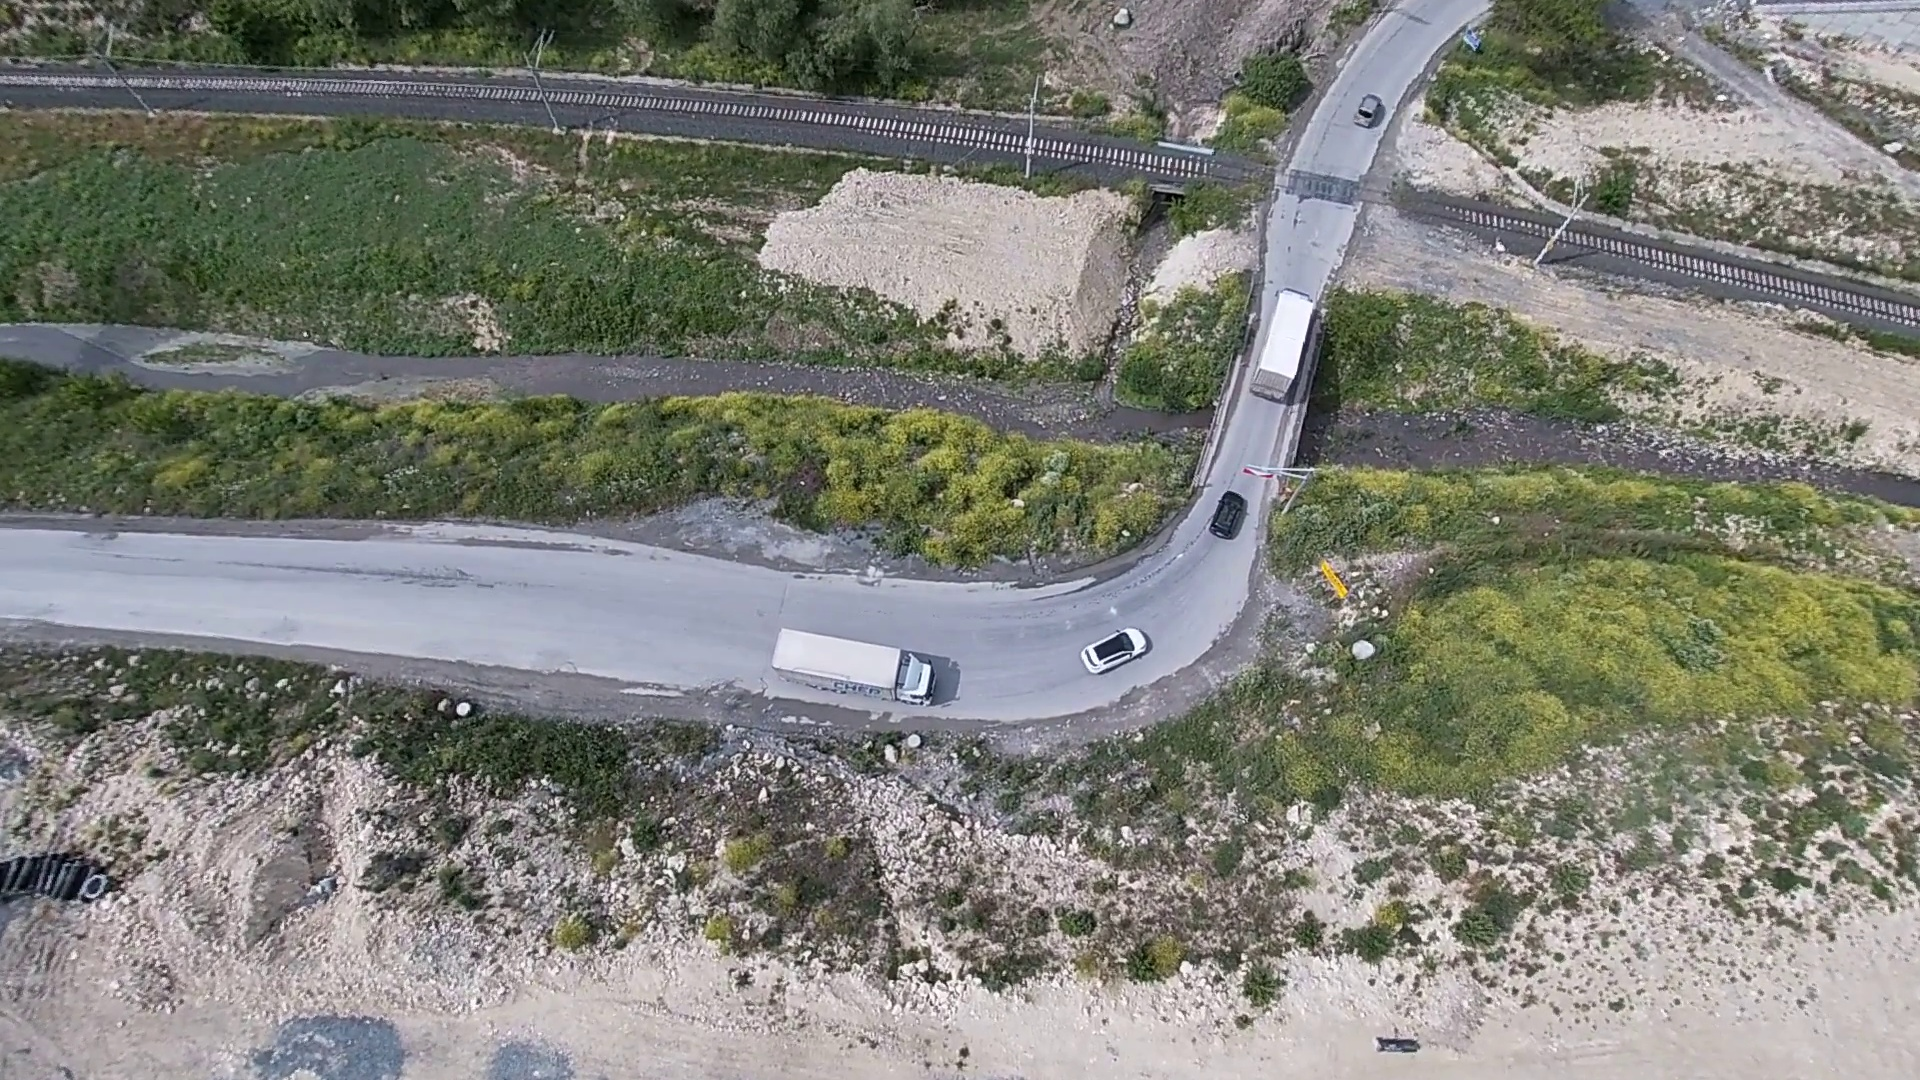araba: (1076, 622, 1158, 676), (1209, 491, 1251, 545), (1353, 84, 1385, 129)
kamyon: (769, 622, 938, 705), (1251, 282, 1313, 411)
